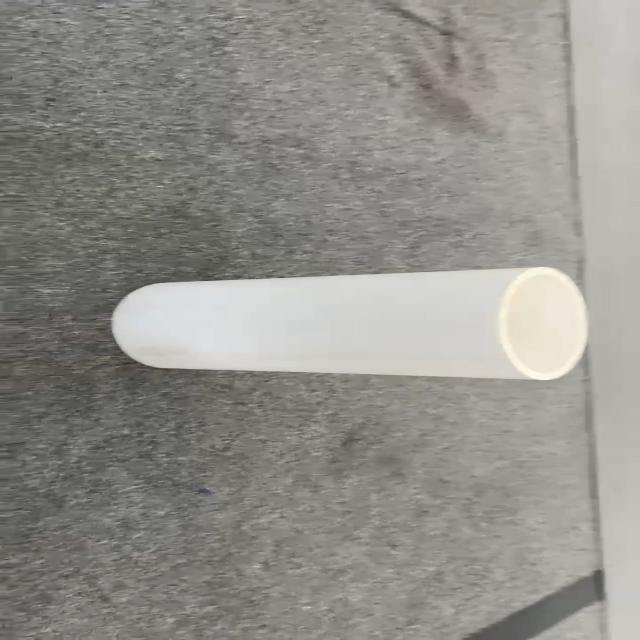coral: (110, 265, 588, 381)
